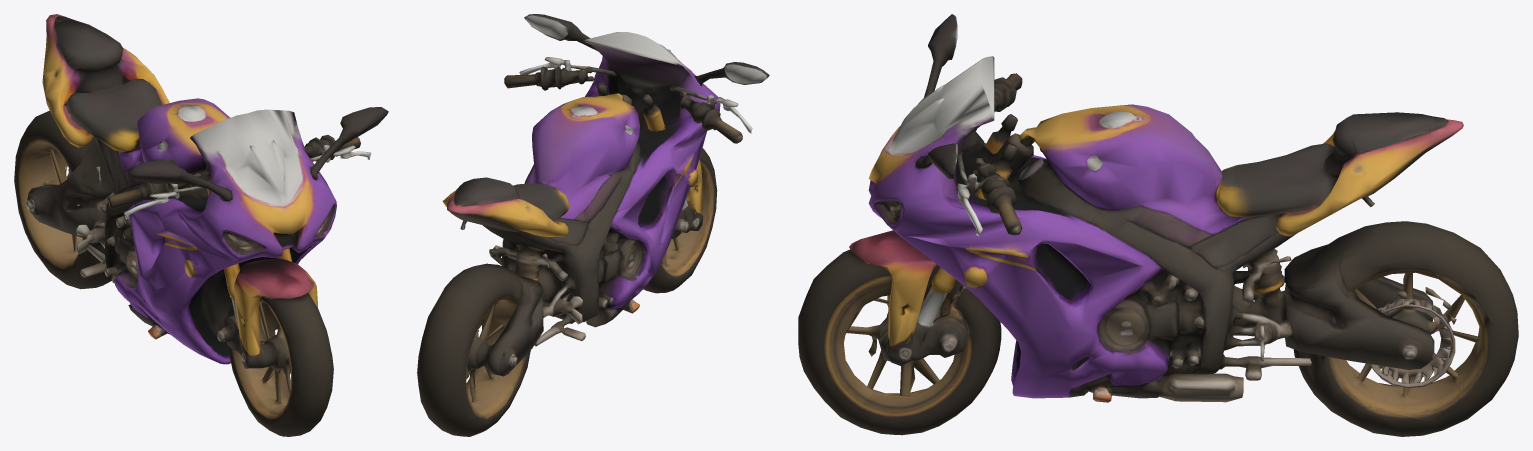
File: r33-motorbike.glb
3 views of the same model, side by side, from view 1: azimuth 30°, elevation 25°; view 2: azimuth 150°, elevation 25°; view 3: azimuth 270°, elevation 25° (orthographic). The views are drawn at different scales.
Visible parts, largest first — view 1: tripo_node_691a074e-649d-46e6-97ff-2c18ed84d0be; view 2: tripo_node_691a074e-649d-46e6-97ff-2c18ed84d0be; view 3: tripo_node_691a074e-649d-46e6-97ff-2c18ed84d0be.
Boxes of the visible parts, x1,y1,x2,y2 form: tripo_node_691a074e-649d-46e6-97ff-2c18ed84d0be: (14, 14, 388, 436); tripo_node_691a074e-649d-46e6-97ff-2c18ed84d0be: (417, 14, 769, 436); tripo_node_691a074e-649d-46e6-97ff-2c18ed84d0be: (798, 14, 1518, 436).
Bounding box in the file's own units: 0.5137 × 0.5566 × 0.998.
Materials: 1 (1 with a texture image).
